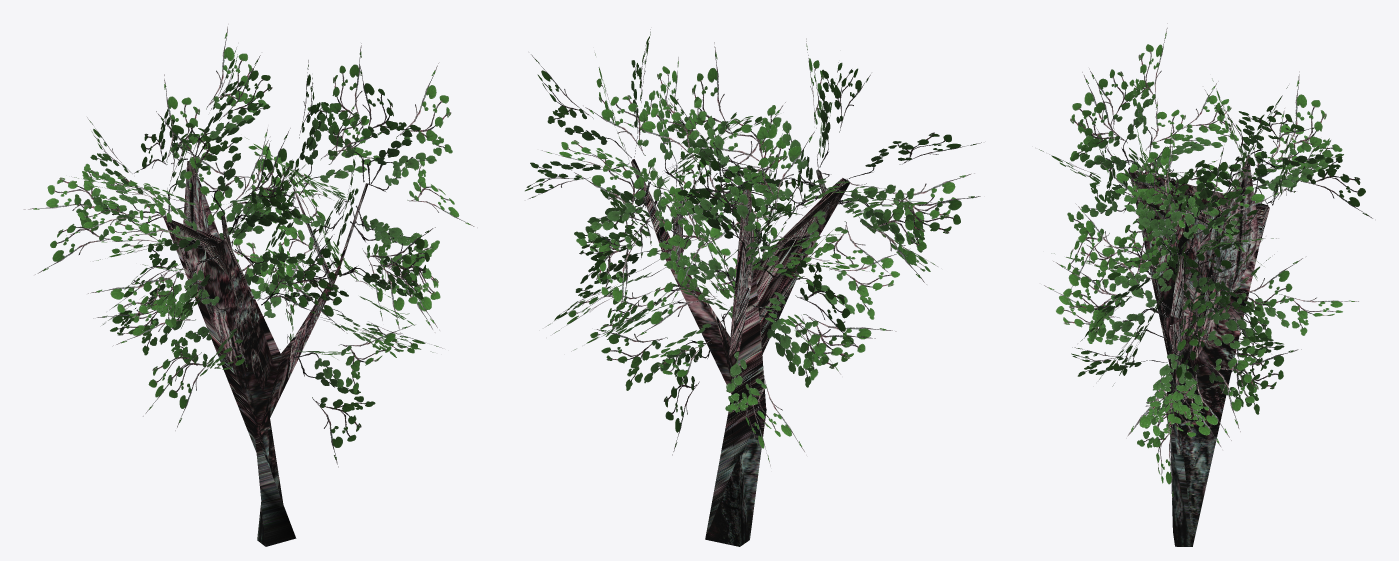
Rendered from TreeLowpoly.fbx.
The picture shows the model from 3 angles, left to right: view 1: azimuth 30°, elevation 25°; view 2: azimuth 150°, elevation 25°; view 3: azimuth 270°, elevation 25°; orthographic projection. The views are drawn at different scales.
Parts seen in each view (by area): view 1: Leaves.001; view 2: Leaves.001; view 3: Leaves.001.
Boxes of the visible parts, x1,y1,x2,y2 form: Leaves.001: [23, 24, 477, 546]; Leaves.001: [525, 29, 981, 546]; Leaves.001: [1039, 23, 1372, 546].
Bounding box in the file's own units: 1402 × 1594 × 1097.
